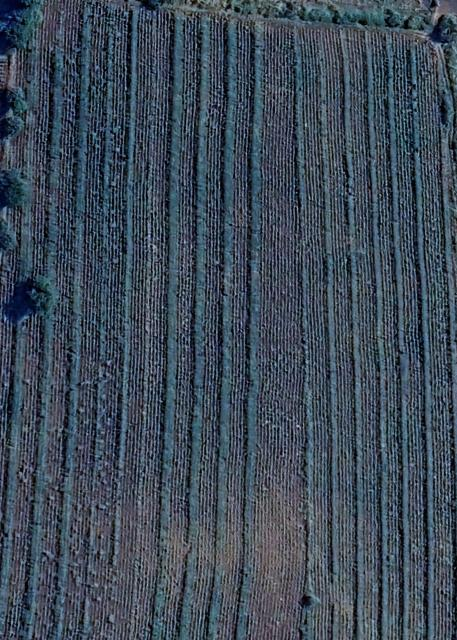Farms: (3, 3, 454, 638)
